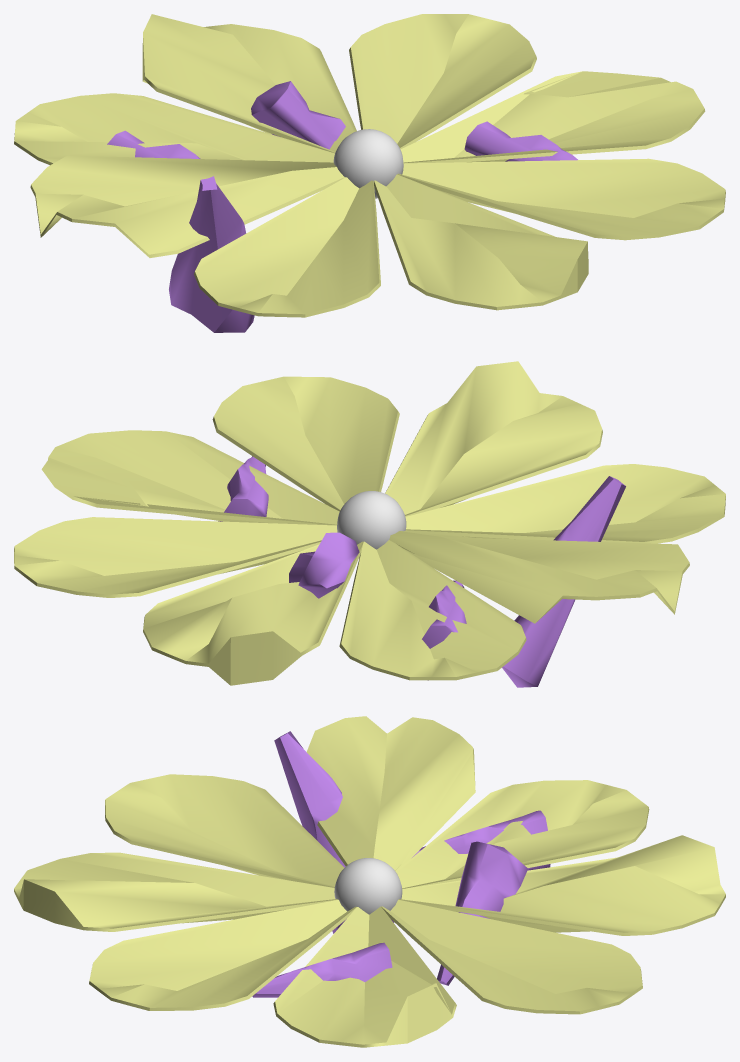
The model's file is FlowerBlight_L2.fbx.
3 renders of one model, top to bottom at view 1: azimuth 30°, elevation 25°; view 2: azimuth 150°, elevation 25°; view 3: azimuth 270°, elevation 25°, orthographic. The views are drawn at different scales.
Visible parts, largest first — view 1: Flower7; view 2: Flower7; view 3: Flower7.
Boxes of the visible parts, bbox=[...] form: Flower7: bbox=[14, 14, 725, 332]; Flower7: bbox=[14, 361, 725, 687]; Flower7: bbox=[14, 716, 725, 1047].
Size of the model in its own units: 13.65 by 3.9 by 13.66.
